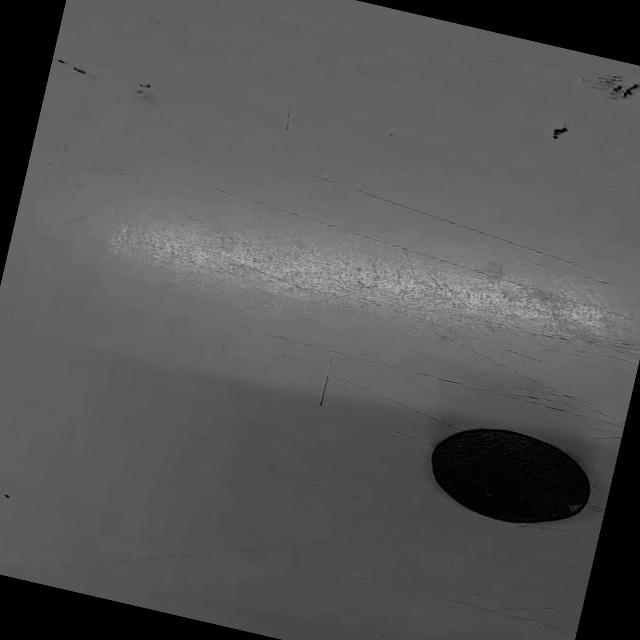rcircle: (431, 429, 590, 524)
